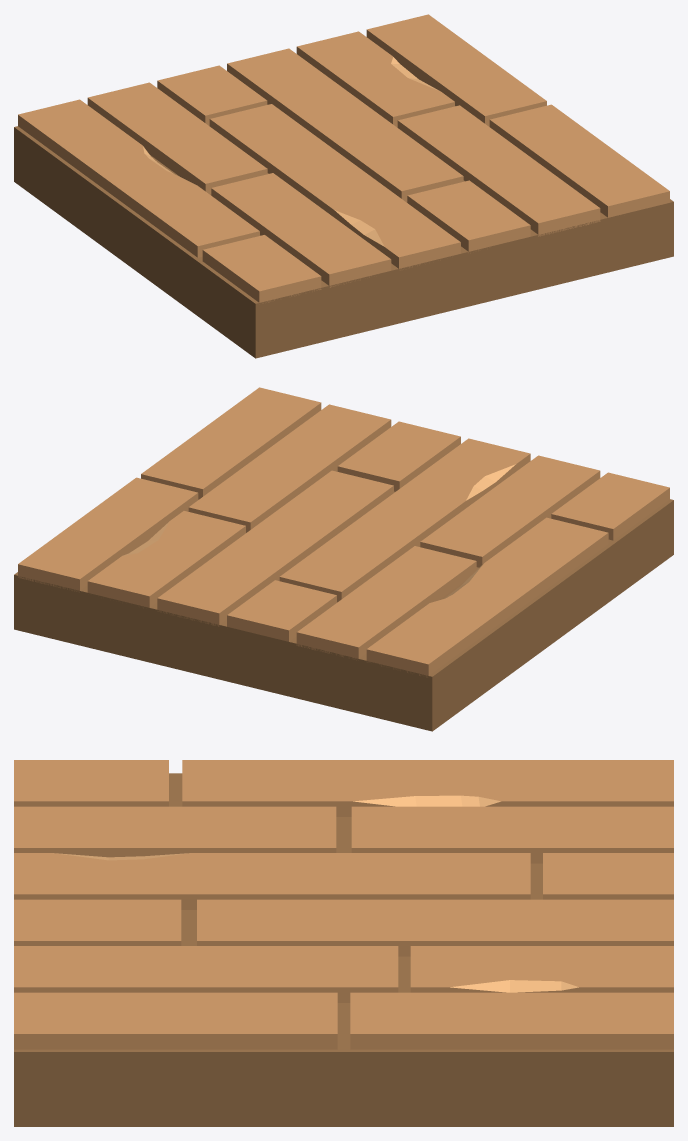
File: Floor_Wood.fbx
The picture shows the model from 3 angles, top to bottom: view 1: azimuth 30°, elevation 25°; view 2: azimuth 150°, elevation 25°; view 3: azimuth 270°, elevation 25°; orthographic projection. The views are drawn at different scales.
Parts seen in each view (by area): view 1: Floor_Wood; view 2: Floor_Wood; view 3: Floor_Wood.
Part boxes in pixels (x1,y1,x2,y2): Floor_Wood: [14, 14, 673, 358]; Floor_Wood: [14, 387, 673, 731]; Floor_Wood: [14, 760, 673, 1126].
Size of the model in its own units: 400 by 60.51 by 400.
